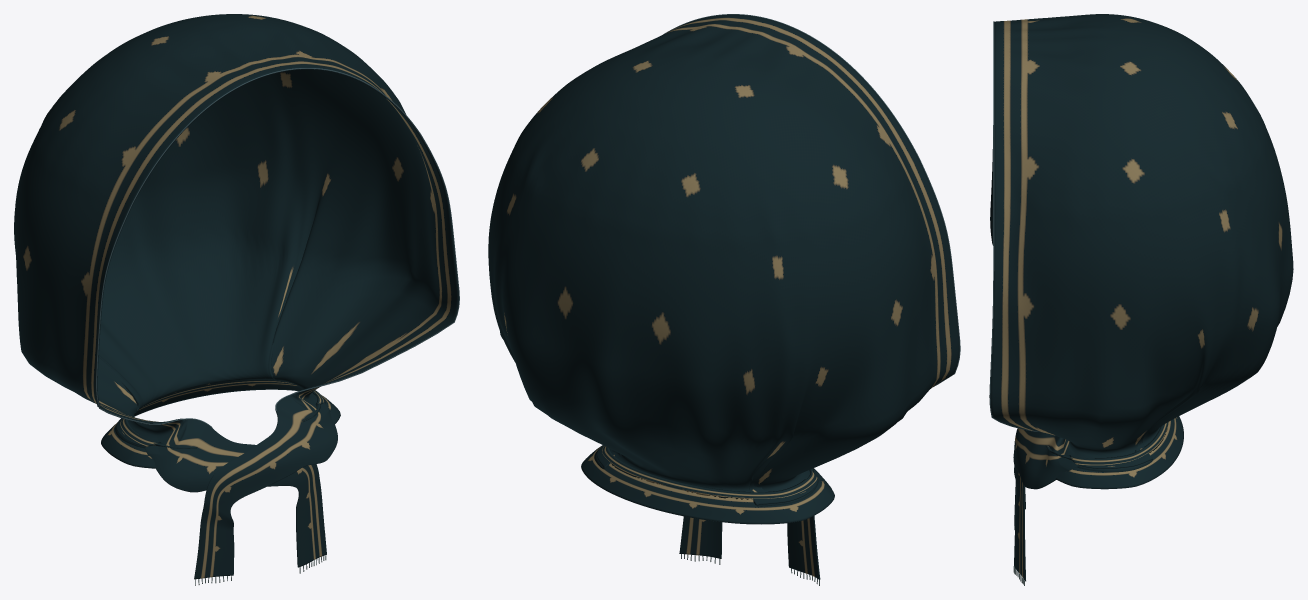
The model's file is Masculine-buttonup-pashmina241-headgear.glb.
3 renders of one model, left to right at view 1: azimuth 30°, elevation 25°; view 2: azimuth 150°, elevation 25°; view 3: azimuth 270°, elevation 25°, orthographic. The views are drawn at different scales.
Parts seen in each view (by area): view 1: 226 headgear / Headwear / continuous woven pashmina239, 226 headgear / Headwear / face edge239; view 2: 226 headgear / Headwear / continuous woven pashmina239, 226 headgear / Headwear / face edge239; view 3: 226 headgear / Headwear / continuous woven pashmina239, 226 headgear / Headwear / face edge239.
Part boxes in pixels (x1,y1,x2,y2): 226 headgear / Headwear / continuous woven pashmina239: (14,14,458,579); 226 headgear / Headwear / face edge239: (96,68,459,427); 226 headgear / Headwear / continuous woven pashmina239: (488,14,959,579); 226 headgear / Headwear / face edge239: (663,14,960,387); 226 headgear / Headwear / continuous woven pashmina239: (990,14,1293,581); 226 headgear / Headwear / face edge239: (989,21,1038,431).
Bounding box in the file's own units: 1.03 × 1.35 × 0.7127.
Materials: 3 (1 with a texture image).
